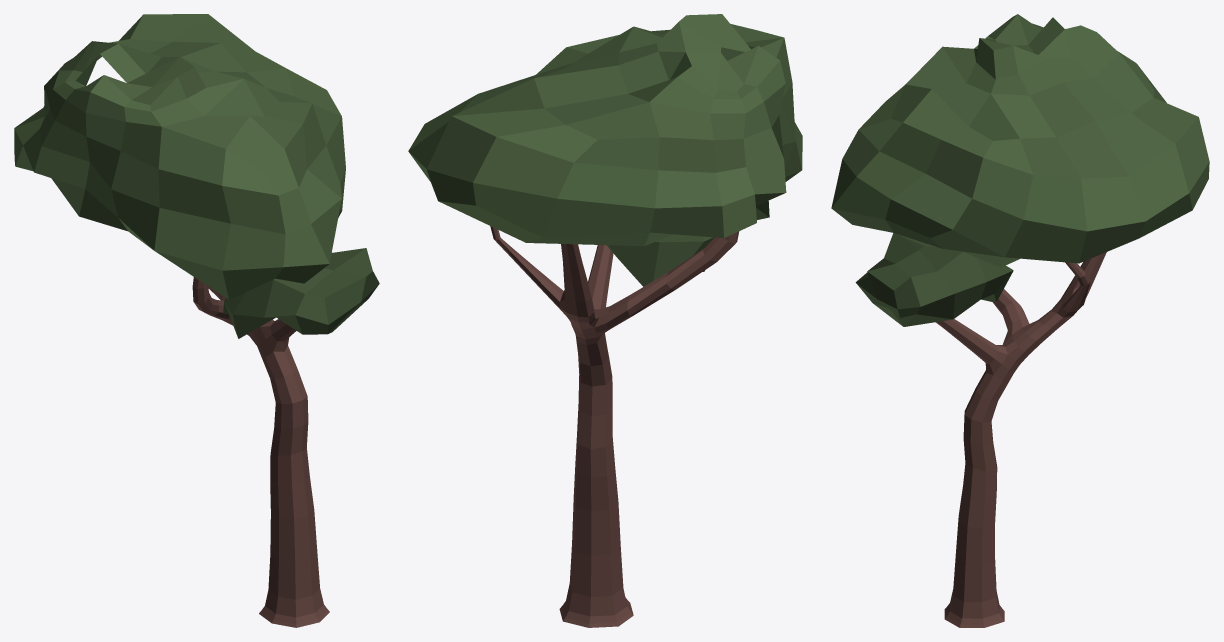
Rendered from CommonTree_4.glb.
3 renders of one model, left to right at view 1: azimuth 30°, elevation 25°; view 2: azimuth 150°, elevation 25°; view 3: azimuth 270°, elevation 25°, orthographic. The views are drawn at different scales.
Visible parts, largest first — view 1: CommonTree_4_Cube.001; view 2: CommonTree_4_Cube.001; view 3: CommonTree_4_Cube.001.
Boxes of the visible parts, x1,y1,x2,y2 form: CommonTree_4_Cube.001: [14, 14, 379, 627]; CommonTree_4_Cube.001: [408, 14, 802, 627]; CommonTree_4_Cube.001: [831, 14, 1209, 627].
Size of the model in its own units: 1.58 by 2.78 by 1.8.
